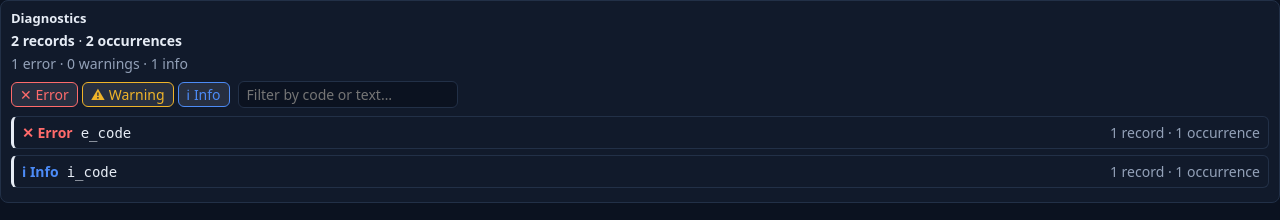
Test case: DiagnosticsExplorer component › filters by severity and shows an empty-filter state
Click the button "ℹ Info" at (204, 94), box 178,82 -> 230,107
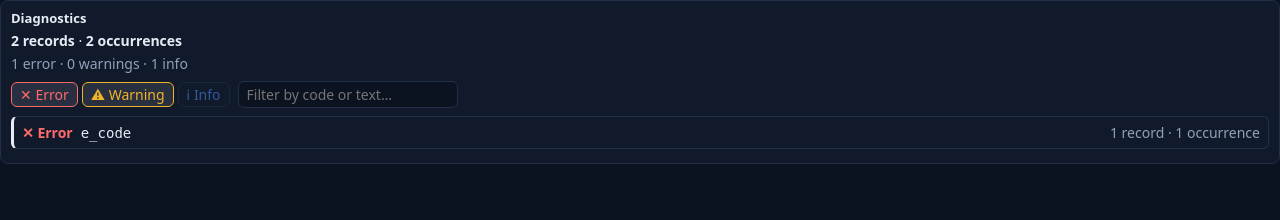
Expected: the button "✕ Error e_code 1 record · 1 occurrence" is shown, 14,117 -> 1268,148
Expected: the button "i_code" is gone
Search with no match → empty state.
Type "zzz-nomatch" into the search field at (348, 94), box 238,81 -> 458,108
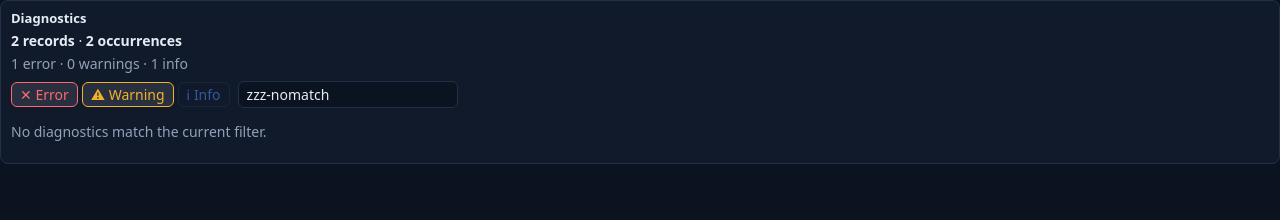
Expected: the text "No diagnostics match the current filter." is shown, 11,122 -> 266,141
